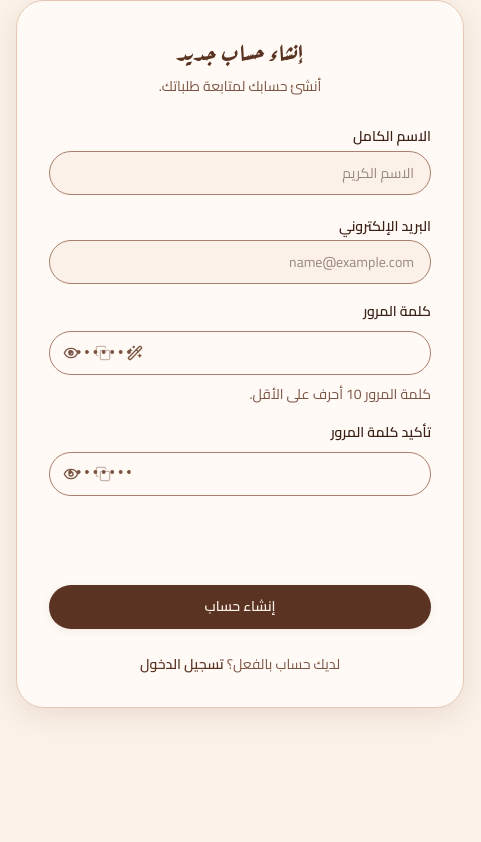
Test: RegisterPage › shows AUTH-008 when password is less than 10 characters
Type "user@example.com" into the field labelled "البريد الإلكتروني" at (240,262), box [49,240,431,284]
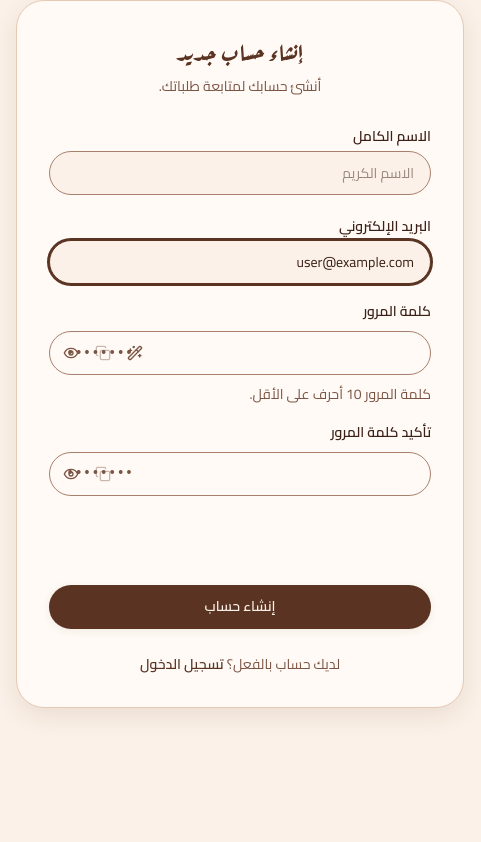
Type "short12" into the password field labelled "كلمة المرور" at (240,353), box [49,331,431,375]
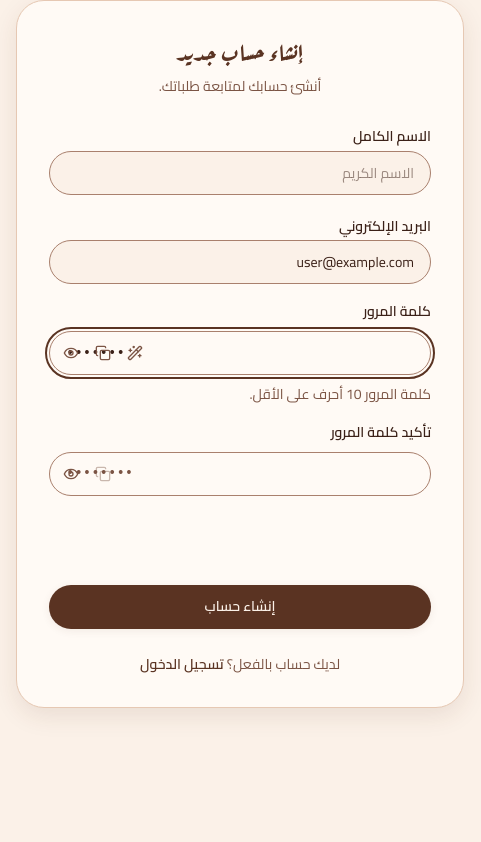
Type "short12" into the password field labelled "تأكيد كلمة المرور" at (240,474), box [49,452,431,496]
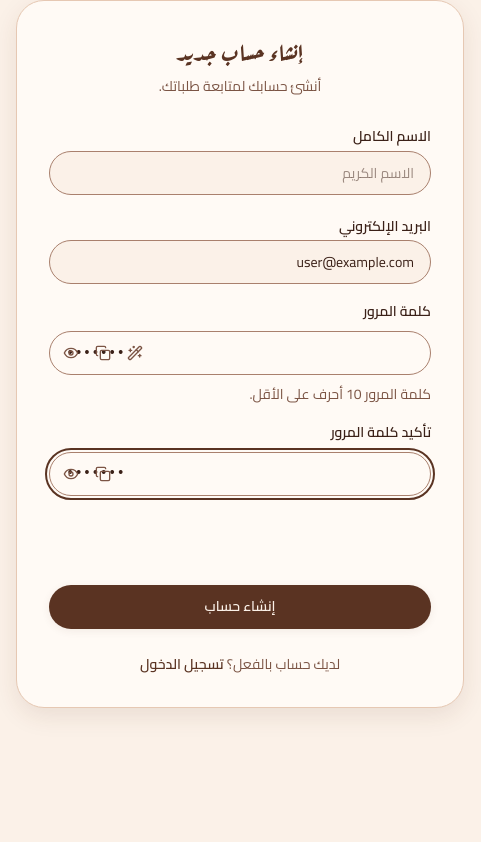
Click the button "إنشاء حساب" at (240,607), box [49,585,431,629]
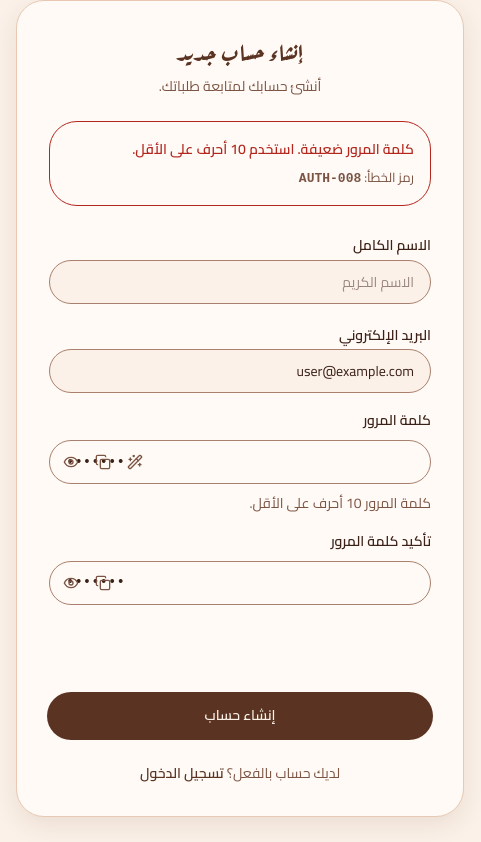
expect the message "كلمة المرور ضعيفة. استخدم 10 أحرف على الأقل. رمز الخطأ: AUTH-008" is shown: met, box [49,121,431,206]
expect the text "AUTH-008" is shown: met, box [299,171,361,186]
